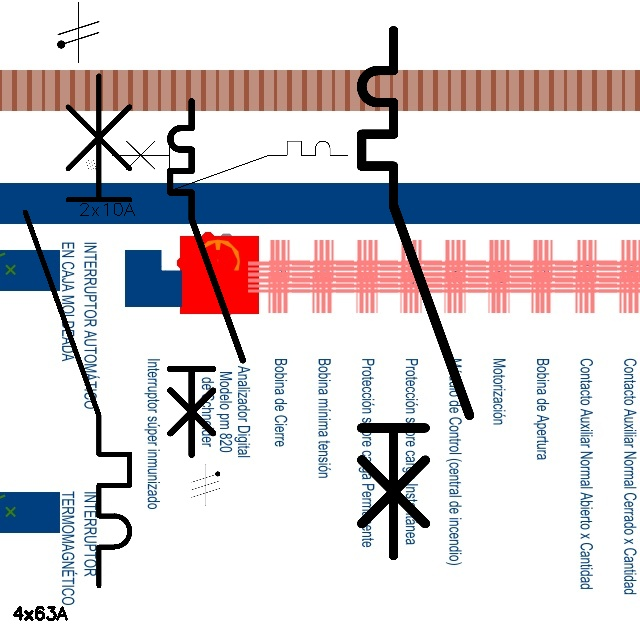interruptor_termomagnetico: (348, 17, 483, 569), (12, 62, 143, 599), (161, 92, 252, 464), (106, 135, 354, 195)
